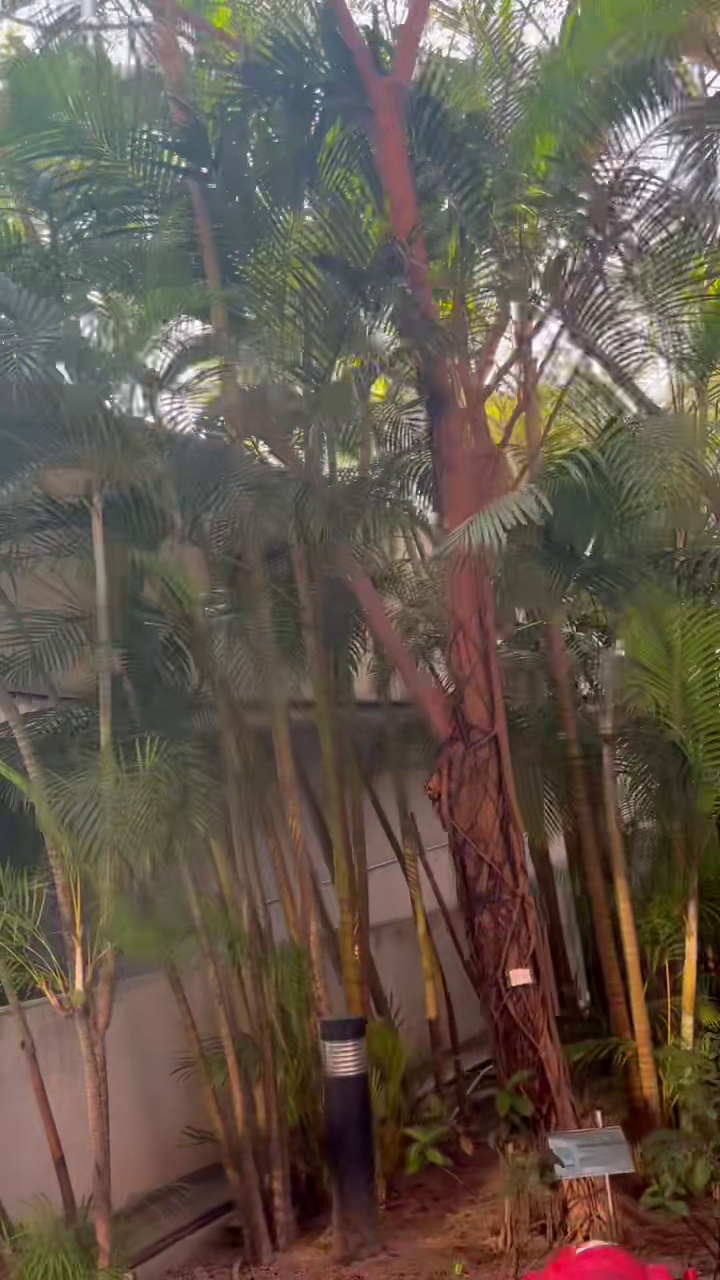Ficus benjamina: (328, 0, 578, 1129)
